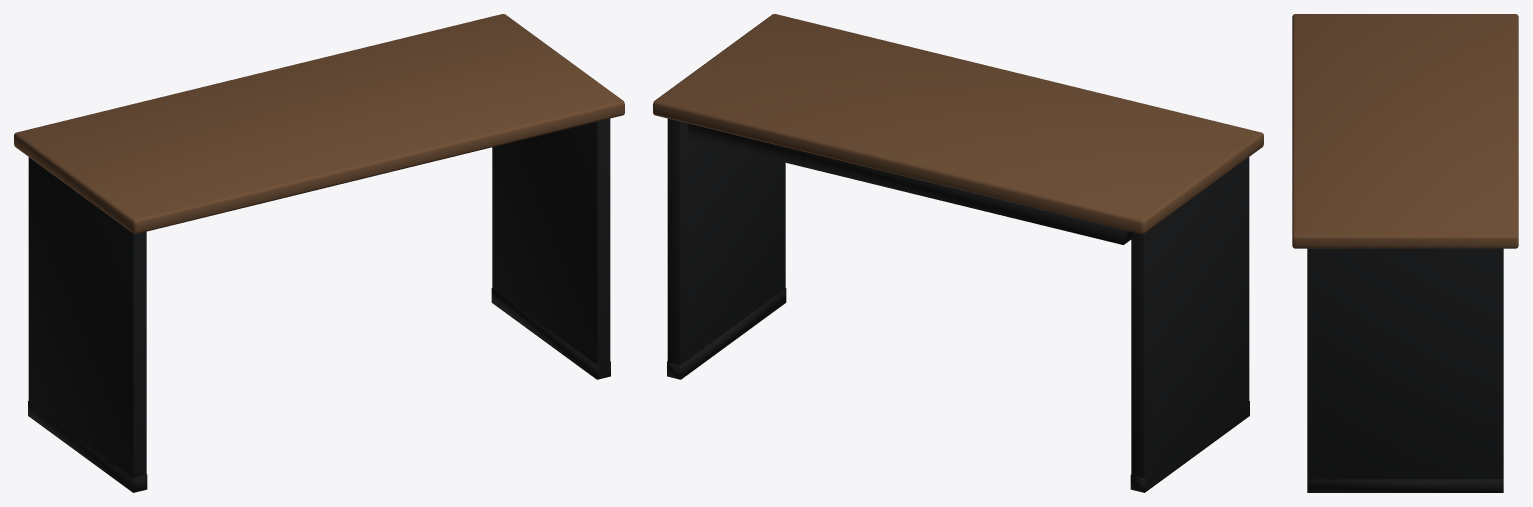
Rendered from bl_desk_walnut_140.glb.
3 views of the same model, side by side, from view 1: azimuth 30°, elevation 25°; view 2: azimuth 150°, elevation 25°; view 3: azimuth 270°, elevation 25° (orthographic). The views are drawn at different scales.
Visible parts, largest first — view 1: top, legFrame, legFrame.001, legFoot.001, legFoot; view 2: top, legFrame, legFrame.001, apron, legFoot.001; view 3: top, legFrame.001, legFoot.001.
Boxes of the visible parts, box(x1,y1,x2,y2) form: top: box(14, 14, 624, 233); legFrame: box(28, 157, 146, 489); legFrame.001: box(492, 118, 610, 377); legFoot.001: box(491, 288, 610, 379); legFoot: box(28, 401, 147, 492); top: box(653, 14, 1263, 233); legFrame: box(1131, 157, 1249, 490); legFrame.001: box(667, 118, 785, 377); apron: box(688, 123, 1131, 244); legFoot.001: box(667, 288, 786, 379); top: box(1292, 14, 1518, 248); legFrame.001: box(1307, 248, 1503, 491); legFoot.001: box(1307, 479, 1503, 492).
Size of the model in its own units: 1.4 by 0.76 by 0.6.
